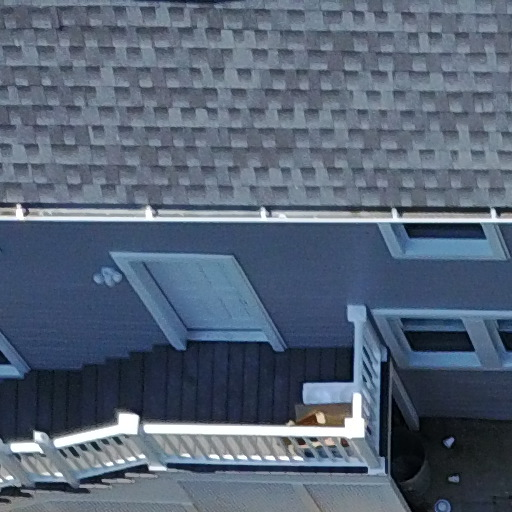clutter: (274, 369, 378, 460)
container: (436, 495, 456, 512)
porch: (11, 332, 441, 502)
trash bin: (374, 430, 457, 511)
